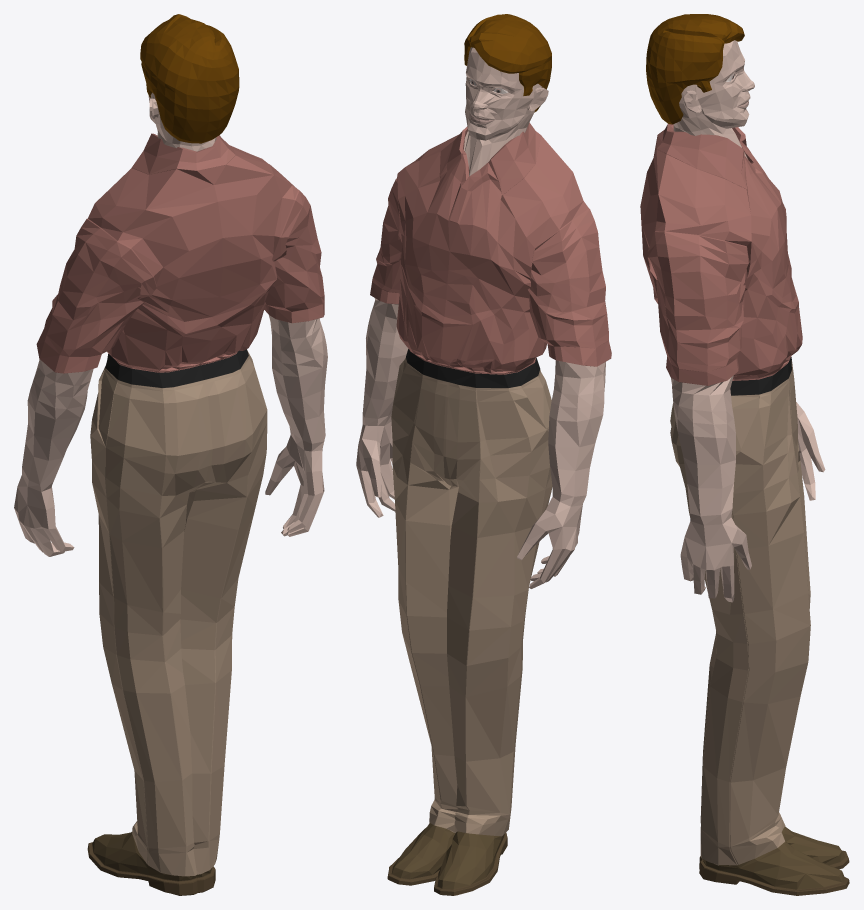
The model's file is person1.fbx.
3 views of the same model, side by side, from view 1: azimuth 30°, elevation 25°; view 2: azimuth 150°, elevation 25°; view 3: azimuth 270°, elevation 25° (orthographic). The views are drawn at different scales.
Parts seen in each view (by area): view 1: RightThigh.001; view 2: RightThigh.001; view 3: RightThigh.001.
Boxes of the visible parts, x1,y1,x2,y2 form: RightThigh.001: [14, 14, 327, 895]; RightThigh.001: [356, 14, 611, 895]; RightThigh.001: [640, 14, 849, 895].
Bounding box in the file's own units: 0.8908 × 0.6109 × 2.75.
